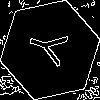Y: (25, 25, 78, 71)
